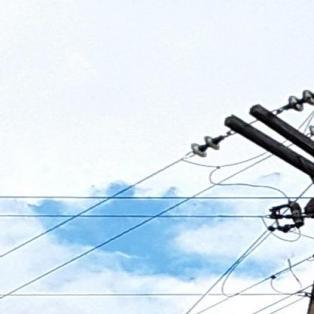Poste: (243, 83, 314, 314)
